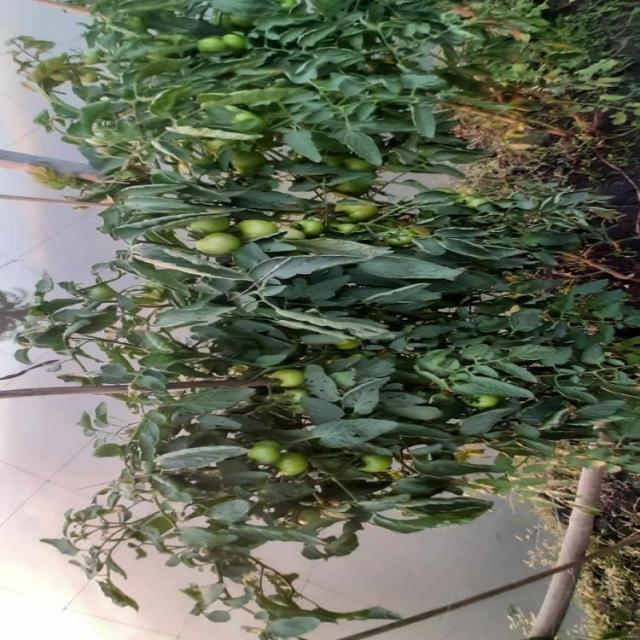tomato: (189, 232, 242, 264), (245, 439, 294, 472), (326, 196, 378, 227), (266, 364, 317, 394), (197, 34, 241, 66), (87, 277, 120, 309), (274, 456, 318, 479), (279, 389, 317, 414), (242, 212, 275, 238), (380, 222, 415, 246), (192, 217, 233, 237), (356, 456, 391, 477), (279, 222, 309, 245), (221, 26, 250, 48), (303, 217, 327, 235), (353, 149, 374, 167), (471, 396, 498, 408)
